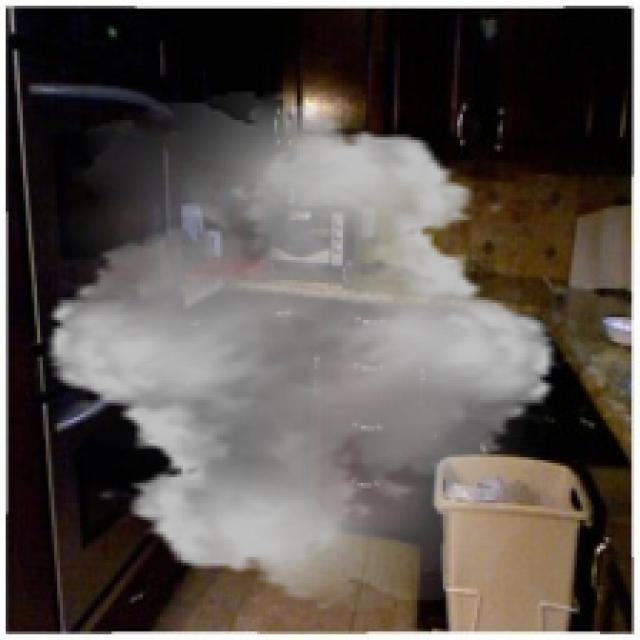smoke: (26, 91, 577, 612)
